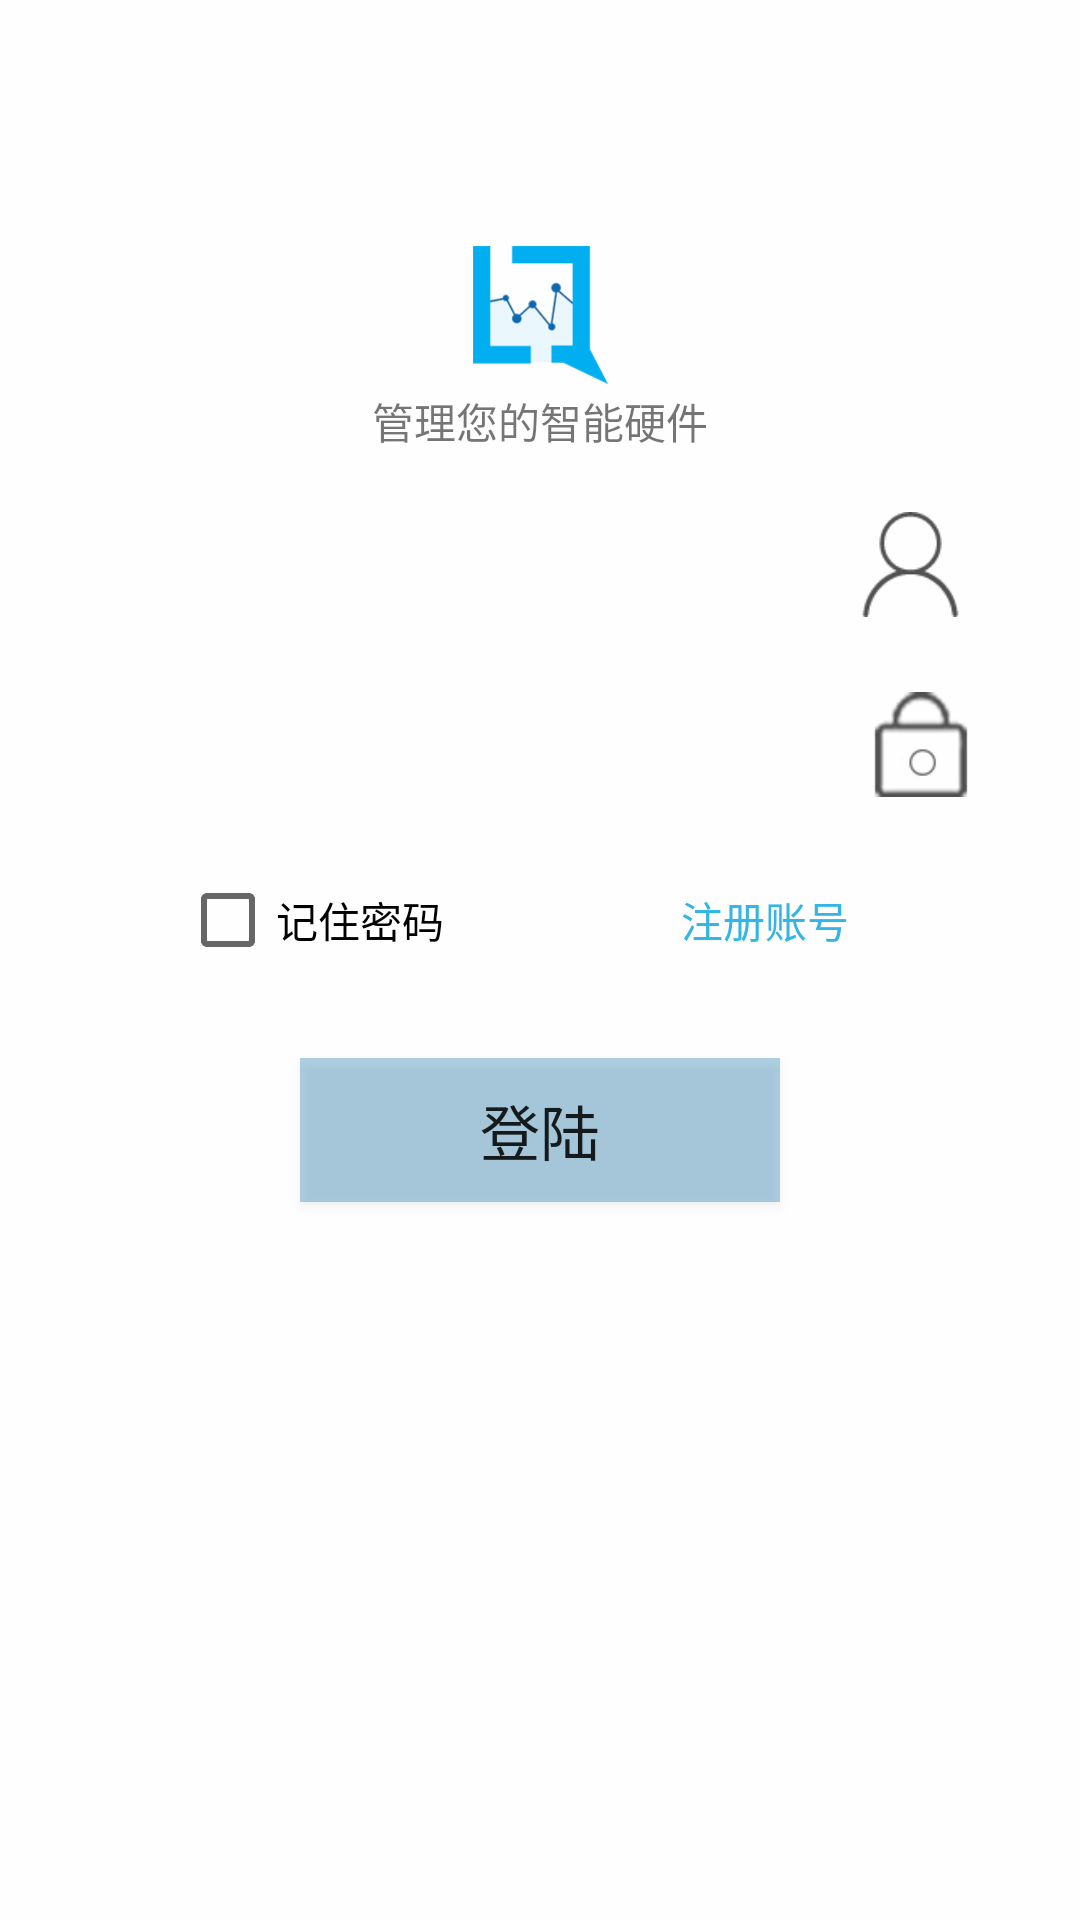

Point at icon controls on the screen. Image size 1080×1920, points as [x,y].
sign password: [921,744]
sign user: [910,564]
